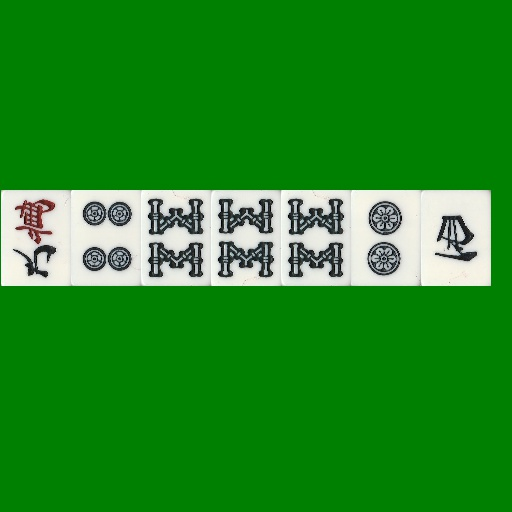2p: (351, 190, 421, 286)
4p: (71, 190, 141, 286)
8s: (141, 190, 211, 286), (211, 190, 281, 286), (281, 190, 351, 286)
9m: (1, 190, 71, 286)
west: (421, 190, 491, 286)
